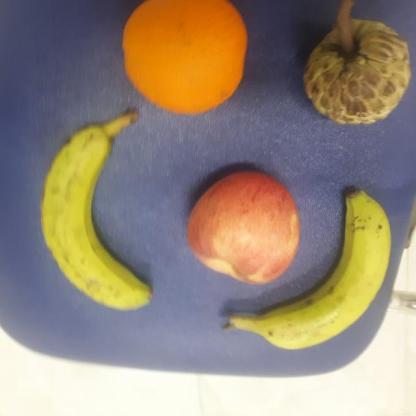annona: (300, 16, 412, 129)
apple: (184, 164, 302, 289)
banana: (36, 119, 157, 318), (262, 188, 394, 359)
orange: (121, 0, 256, 116)
